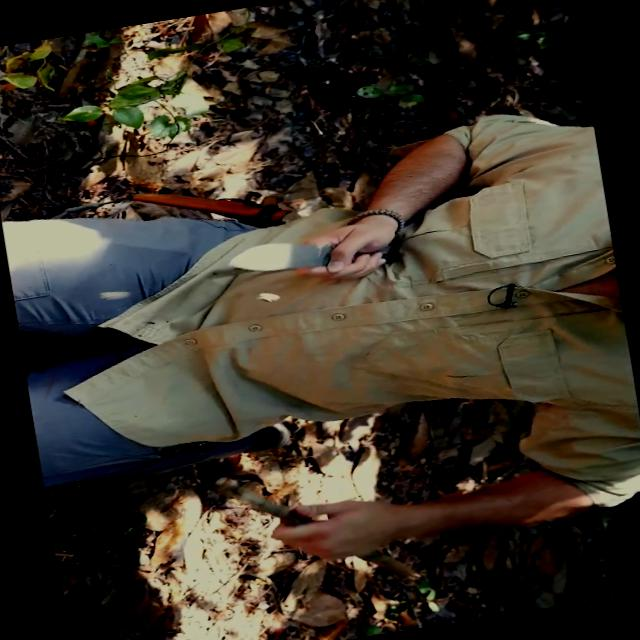knife: (216, 217, 392, 297)
